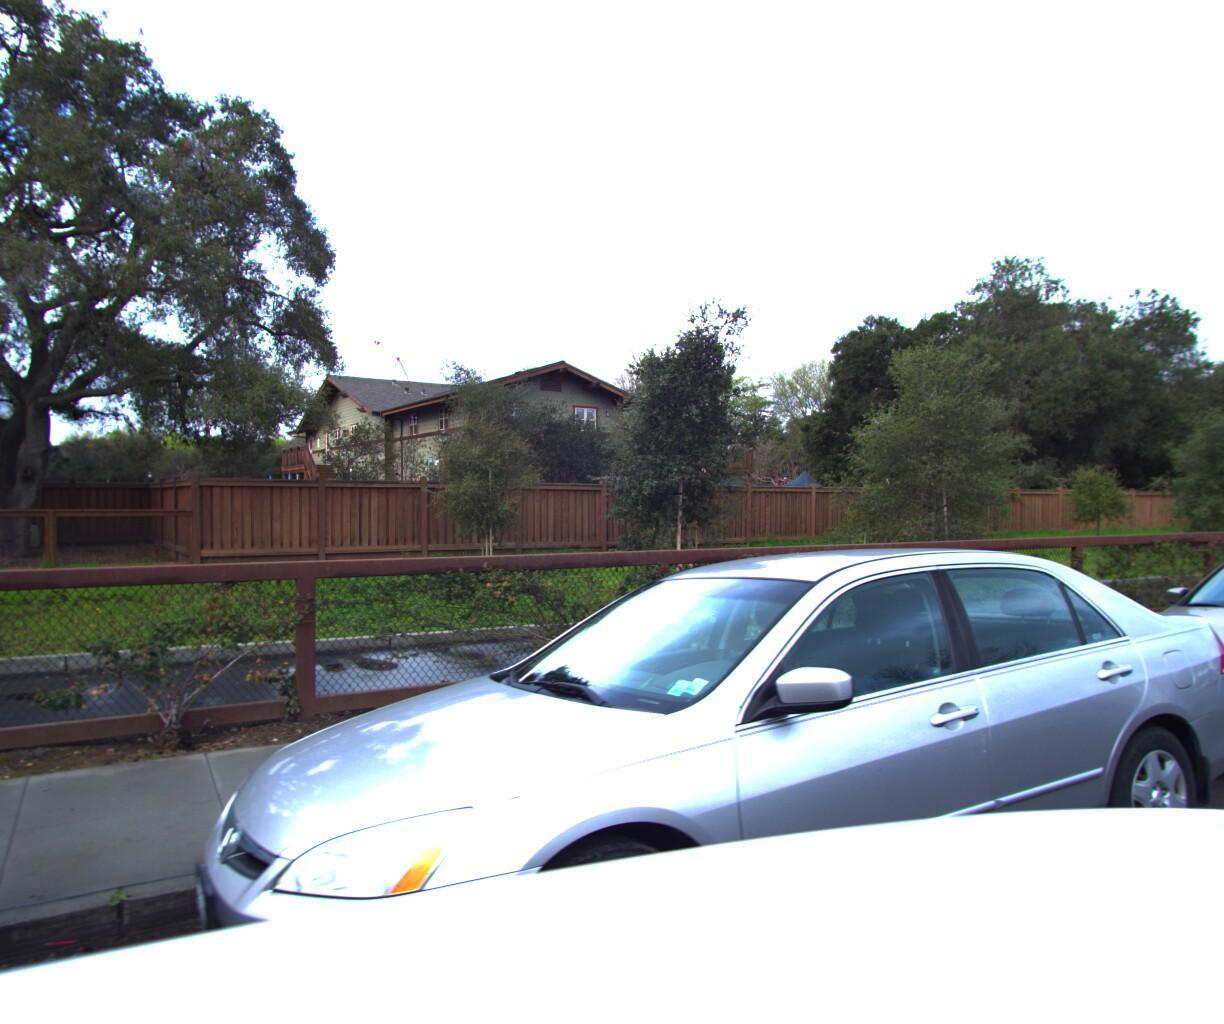car: (164, 526, 1224, 1024), (1053, 528, 1224, 846)
